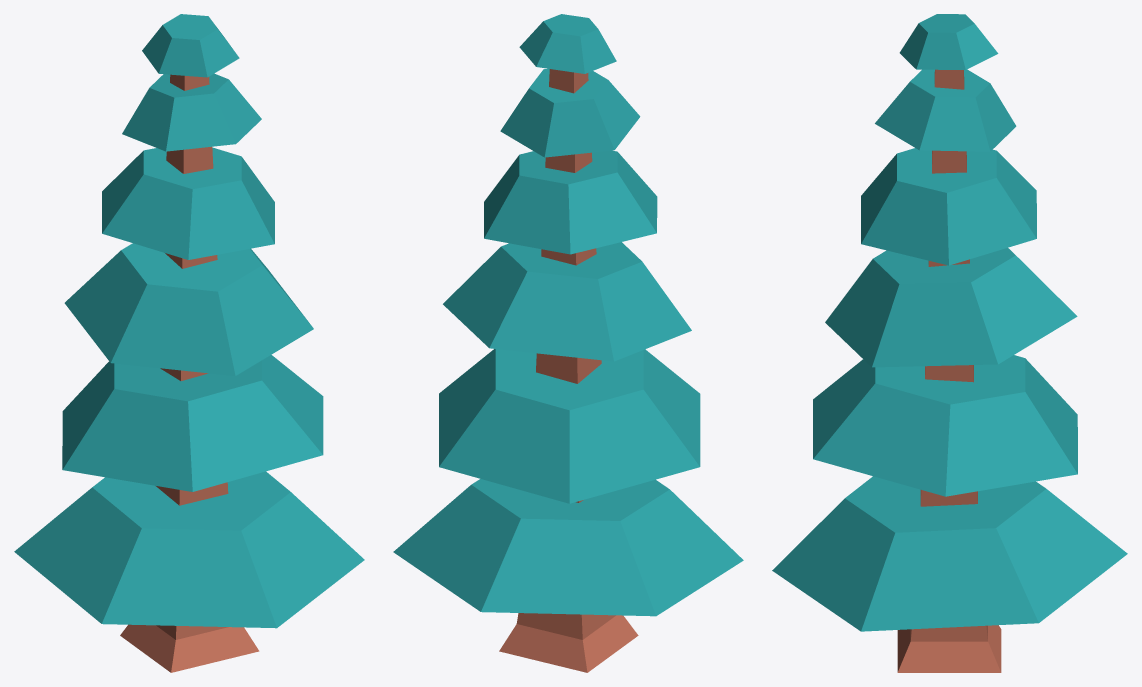
The model's file is tree_pineRoundB.dae.
3 renders of one model, left to right at view 1: azimuth 30°, elevation 25°; view 2: azimuth 150°, elevation 25°; view 3: azimuth 270°, elevation 25°, orthographic.
Visible parts, largest first — view 1: tree_pineRoundB; view 2: tree_pineRoundB; view 3: tree_pineRoundB.
Part boxes in pixels (bbox=[...]): tree_pineRoundB: bbox=[14, 14, 364, 672]; tree_pineRoundB: bbox=[393, 14, 743, 672]; tree_pineRoundB: bbox=[772, 14, 1127, 672].
Bounding box in the file's own units: 0.5322 × 1.2 × 0.6132.
